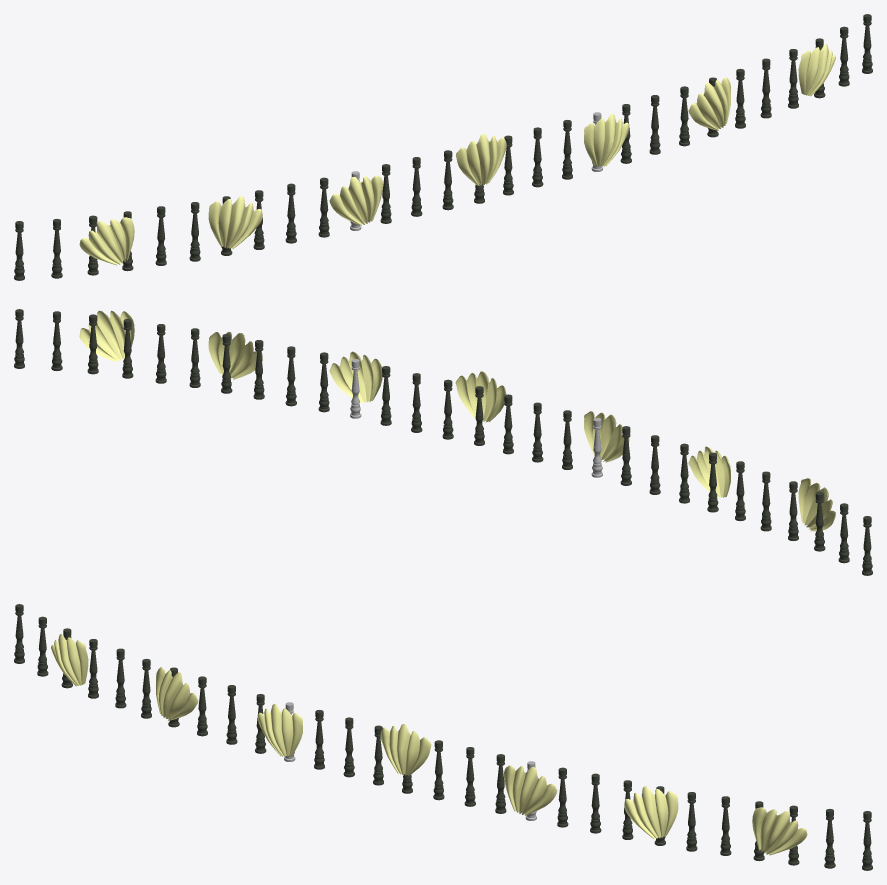
File: Mesh Shell 2.fbx
3 views of the same model, one above another, from view 1: azimuth 30°, elevation 25°; view 2: azimuth 150°, elevation 25°; view 3: azimuth 330°, elevation 25° (orthographic).
Visible parts, largest first — view 1: Shells1; view 2: Shells1; view 3: Shells1.
Boxes of the visible parts, x1=… form: Shells1: x1=14, y1=14, x2=872, y2=280; Shells1: x1=14, y1=309, x2=872, y2=575; Shells1: x1=14, y1=604, x2=872, y2=870.
Size of the model in its own units: 440 by 4599 by 359.
